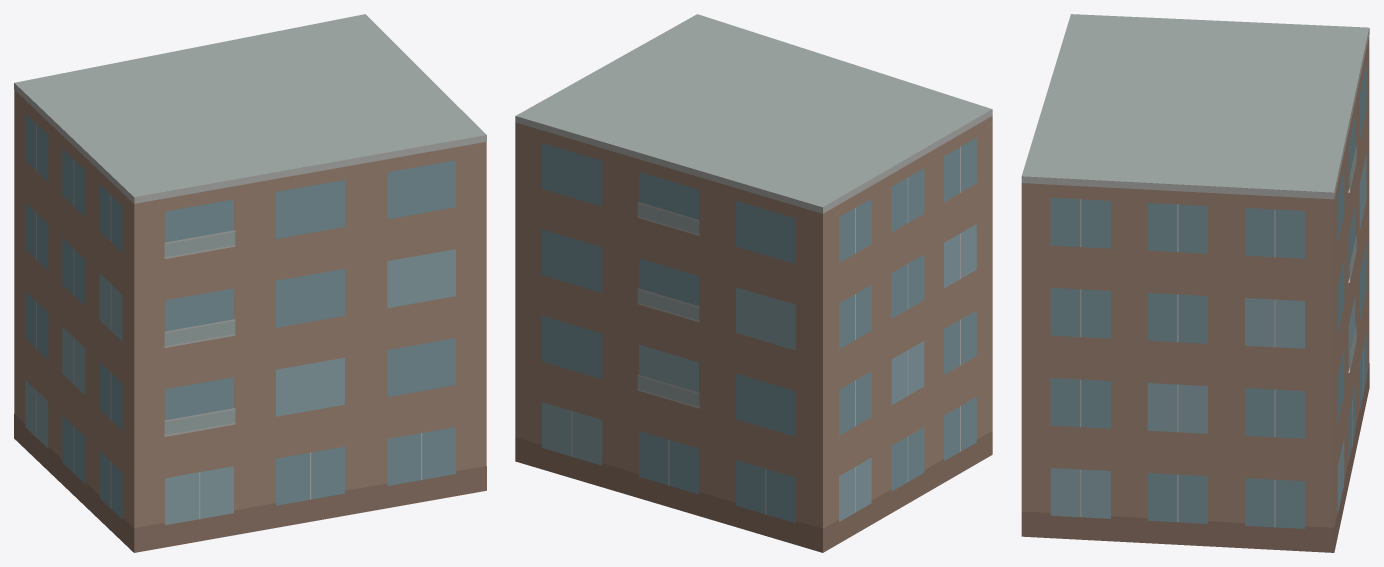
File: survey-upis-32909035.glb
3 views of the same model, side by side, from view 1: azimuth 30°, elevation 25°; view 2: azimuth 150°, elevation 25°; view 3: azimuth 270°, elevation 25° (orthographic). The views are drawn at different scales.
Visible parts, largest first — view 1: survey-upis-32909035.tmp; view 2: survey-upis-32909035.tmp; view 3: survey-upis-32909035.tmp.
Part boxes in pixels (<box>): survey-upis-32909035.tmp: <box>14,14,486,552</box>; survey-upis-32909035.tmp: <box>515,14,992,552</box>; survey-upis-32909035.tmp: <box>1021,14,1369,552</box>.
Size of the model in its own units: 13.83 by 13 by 11.39.
